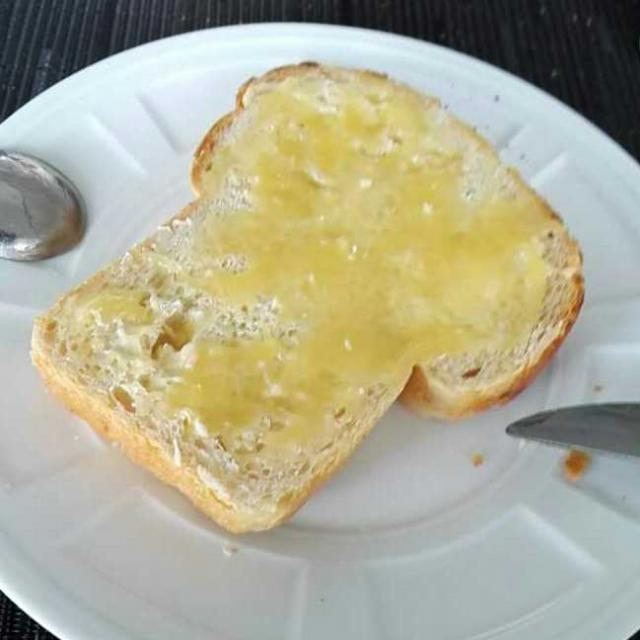bread: (39, 69, 578, 526)
honey: (172, 96, 543, 450)
